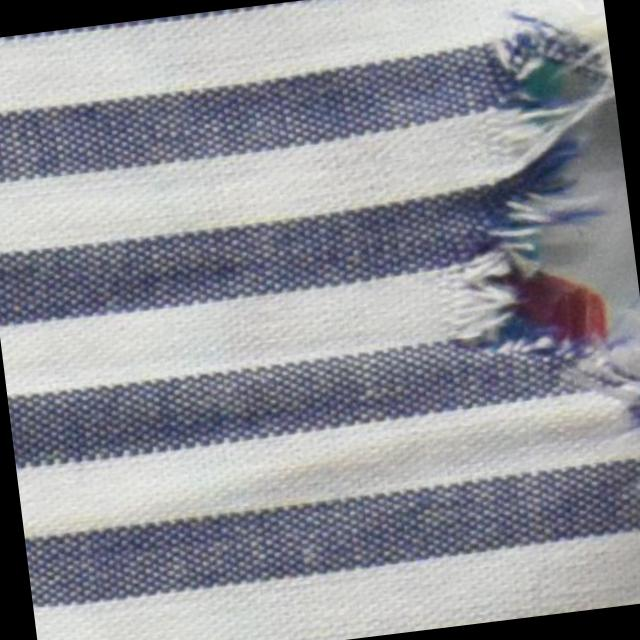cut: (428, 0, 640, 431)
